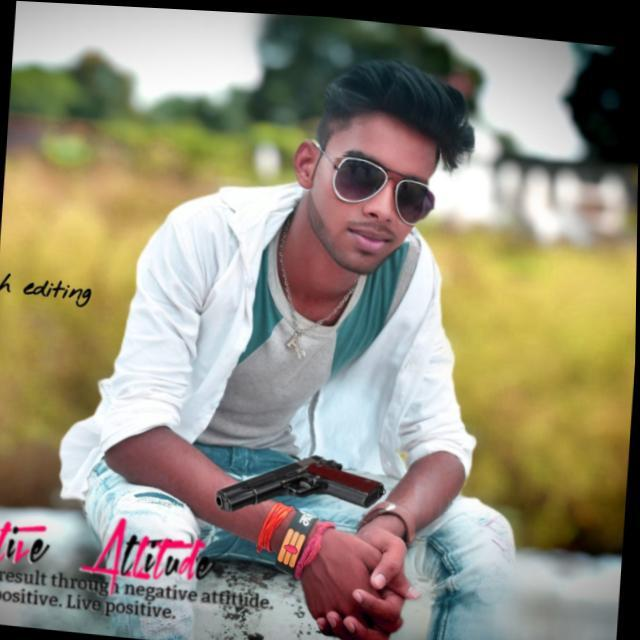weapon: (208, 438, 392, 528)
